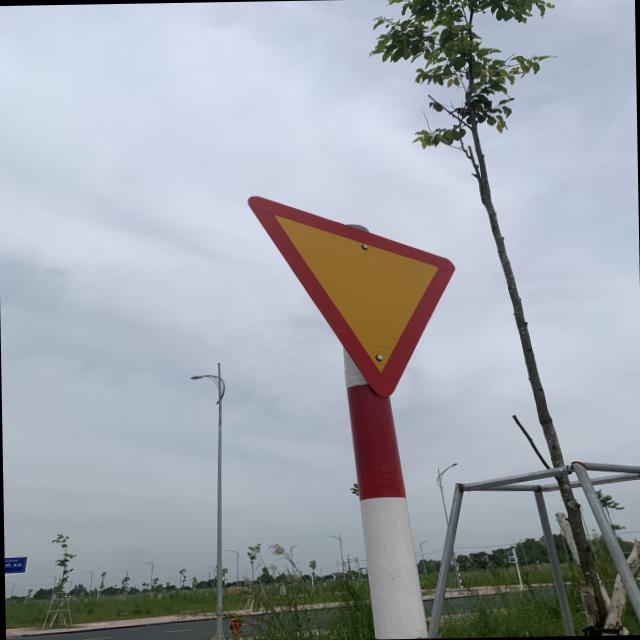Gioi_Han_Toc_Do_25: (246, 192, 460, 402)
